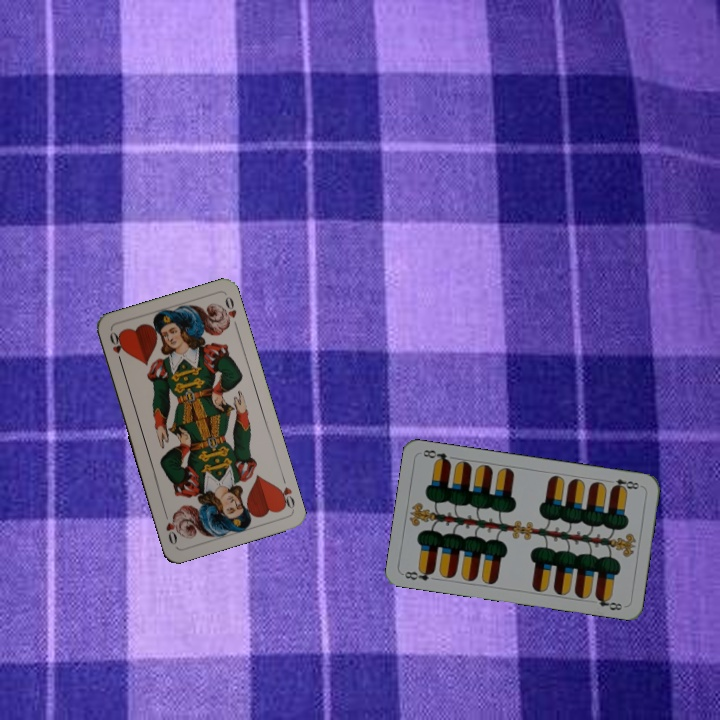E8: (608, 475, 644, 493), (401, 565, 437, 583)
HO: (273, 472, 297, 512), (106, 327, 126, 367)
